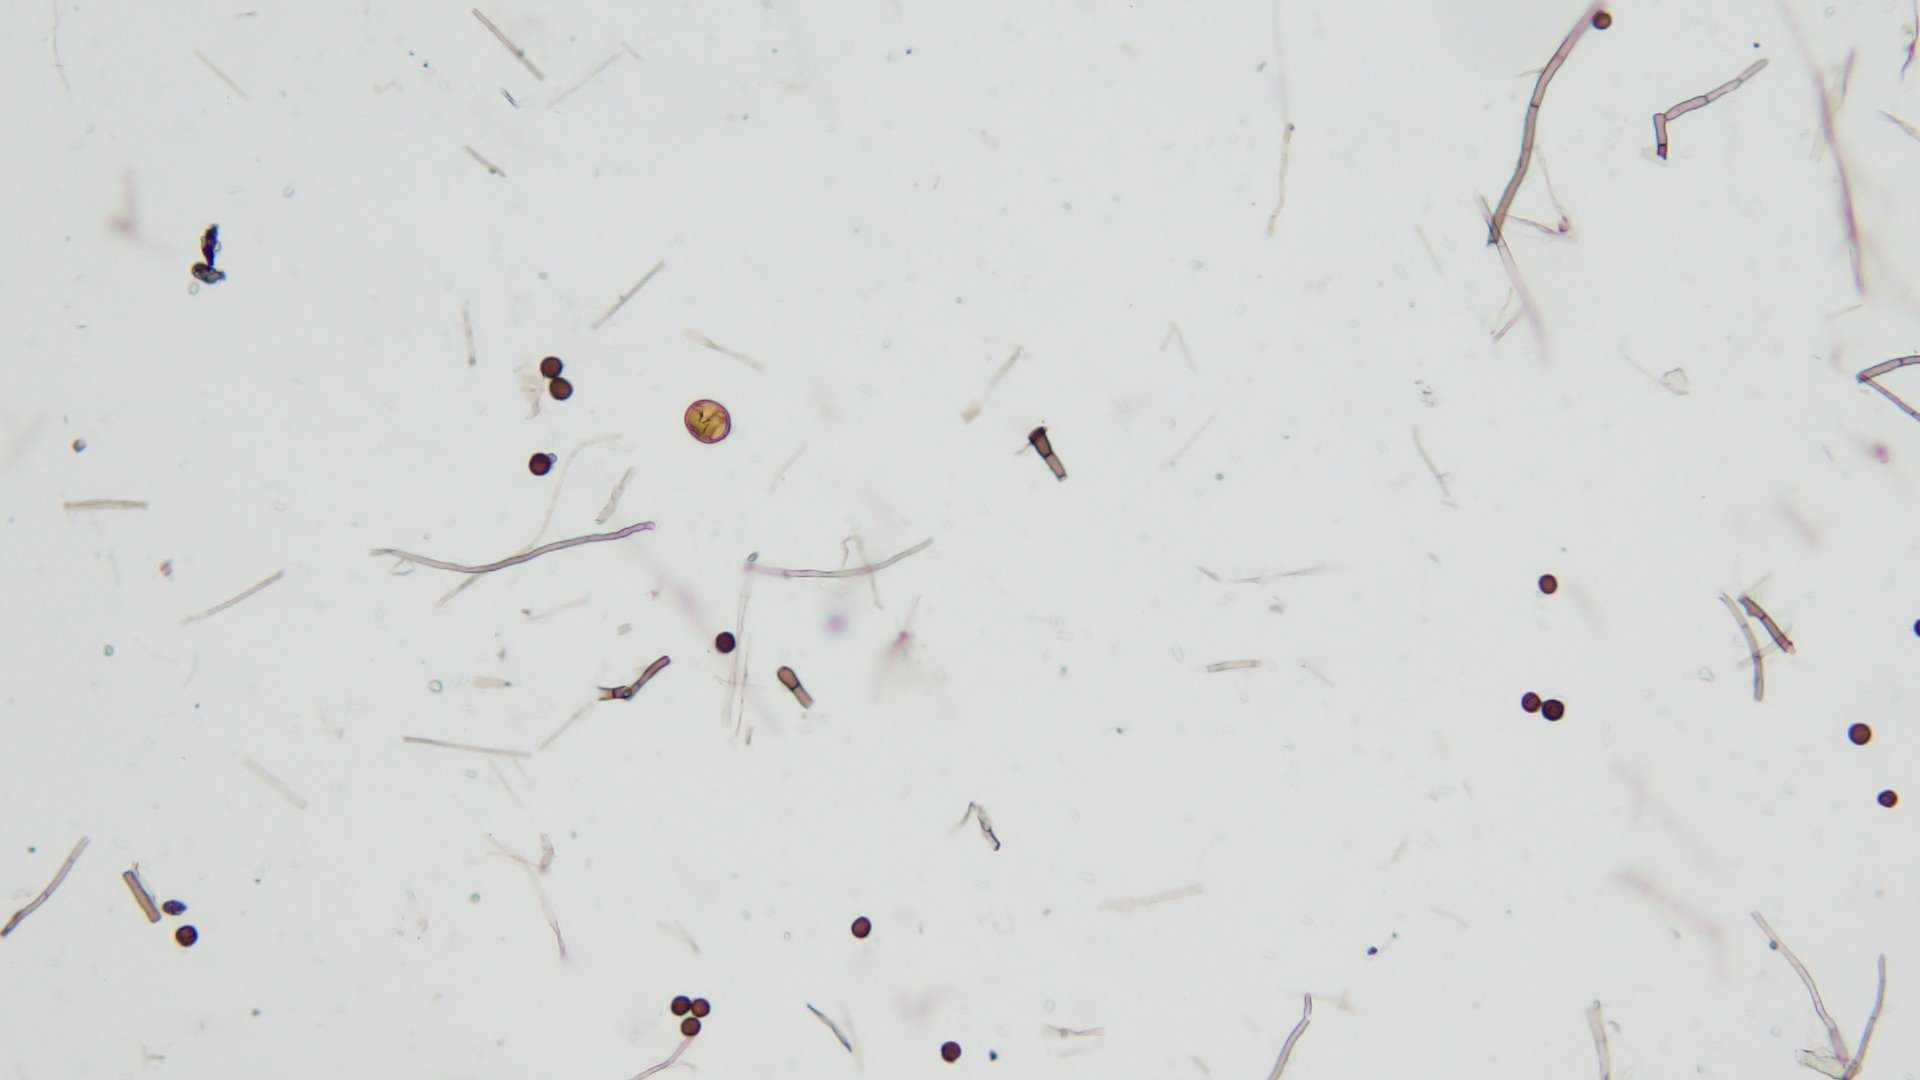shs_spore: (1847, 721, 1873, 748), (939, 1040, 963, 1064), (1543, 699, 1567, 723), (713, 629, 736, 654), (174, 923, 199, 945), (527, 454, 554, 475), (541, 353, 563, 377), (1519, 691, 1542, 715), (1876, 789, 1902, 808), (551, 377, 572, 400), (851, 915, 872, 938), (670, 994, 692, 1015), (688, 997, 709, 1019), (680, 1017, 702, 1036), (1592, 12, 1613, 32), (1538, 574, 1557, 593)
xb_spore: (684, 400, 732, 440)
